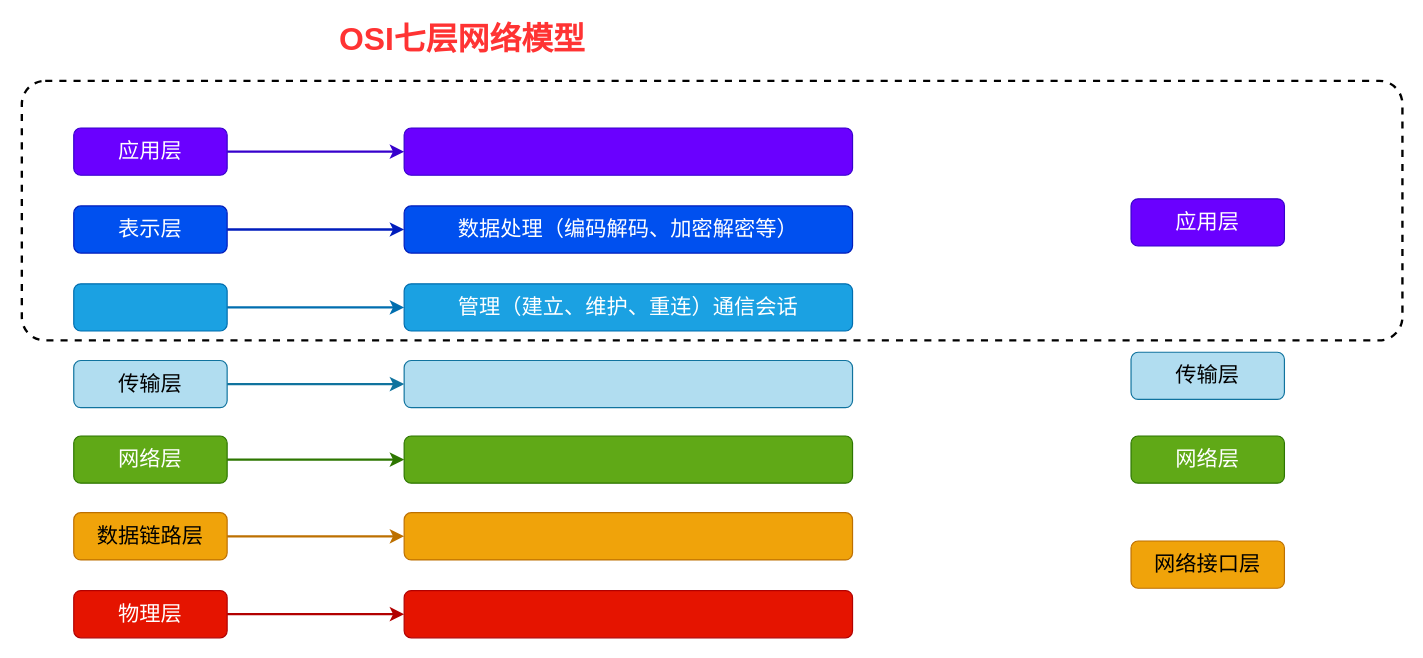
Image size: 1423x658. Some labels were removed from this diagram. Here are the shapes that lost their labels. From the top down, the centre of each, then its label:
At point (628, 151): "为计算机用户提供借口和服务".
At point (150, 307): "会话层".
At point (628, 383): "管理端到端的通信连接".
At point (628, 459): "数据路由（决定数据在网络的路径）".
At point (628, 536): "管理相邻节点之间的数据通信".
At point (628, 613): "数据通信的光电物理特性".
